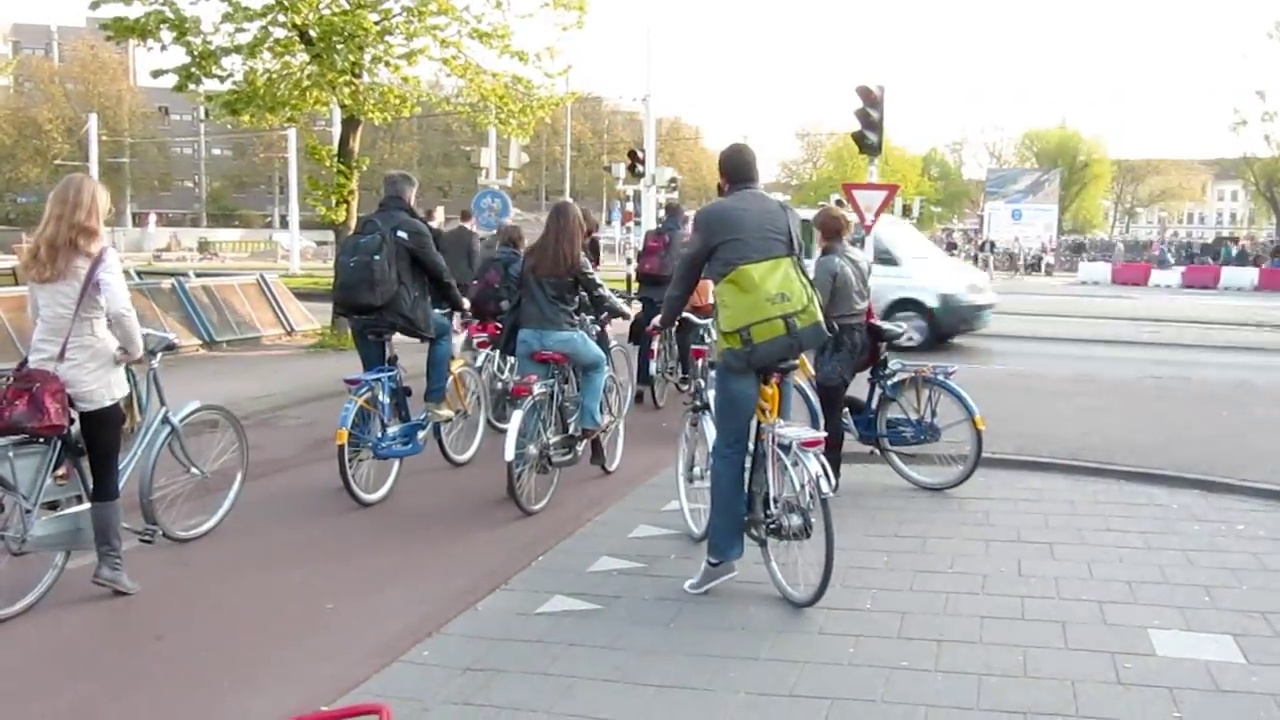cyclist_back: (10, 167, 256, 623), (654, 140, 838, 617), (308, 165, 492, 506), (503, 198, 633, 505)
cyclist_side: (783, 209, 988, 496)
